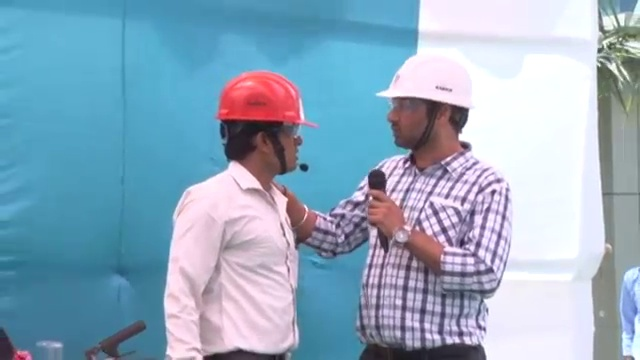helmet: (213, 67, 320, 130), (373, 52, 478, 110)
helmet_on: (212, 67, 323, 180), (370, 51, 479, 161)
person: (288, 50, 515, 360), (161, 67, 321, 360)
